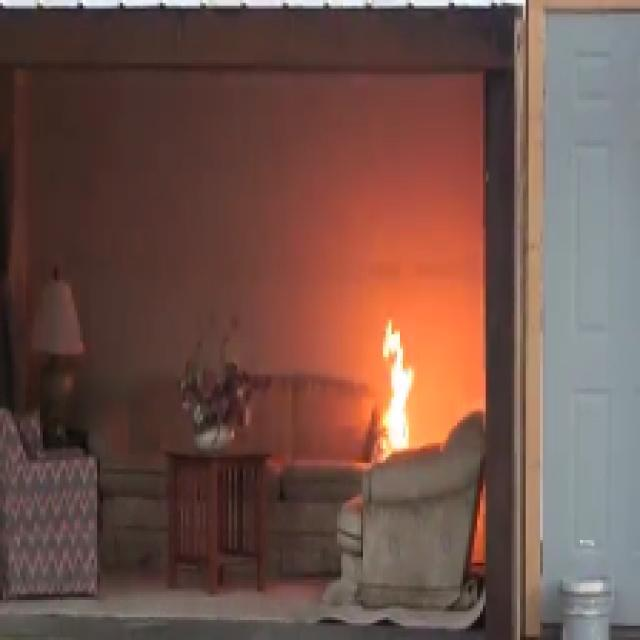Fire: (368, 320, 429, 462)
